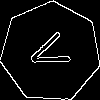V: (25, 27, 80, 75)
